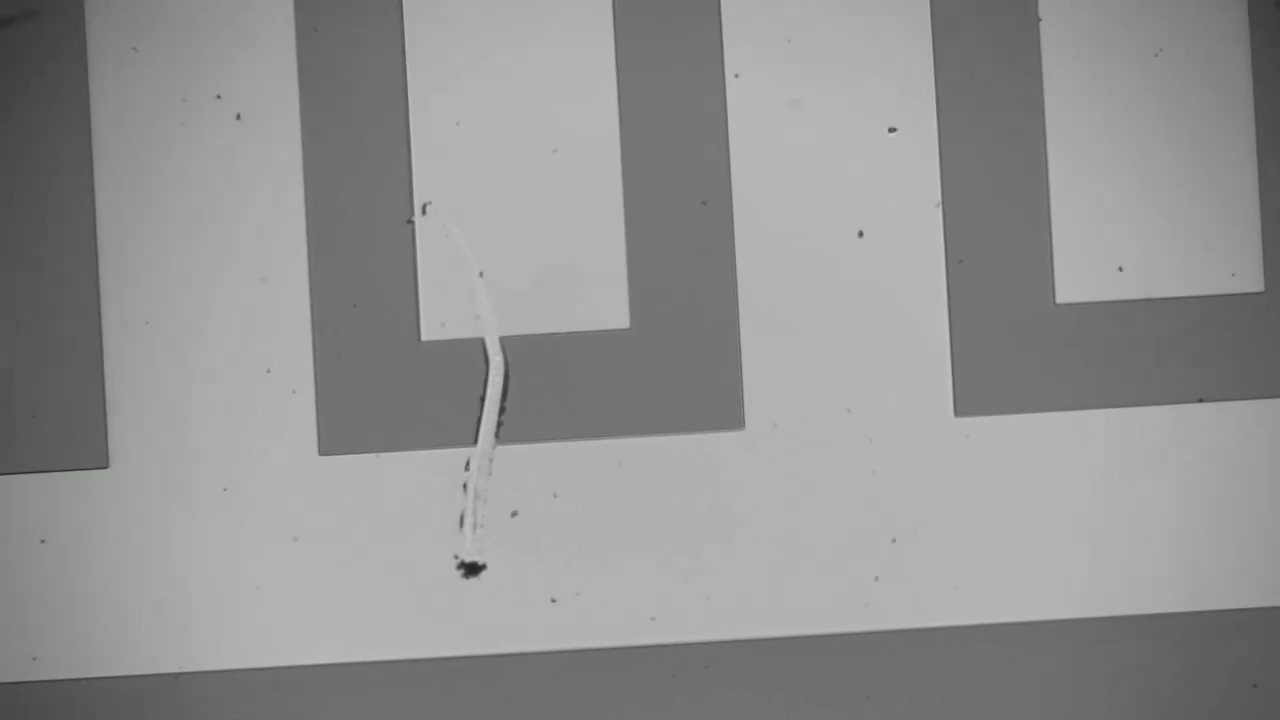Short_circuit: (453, 325, 531, 462)
